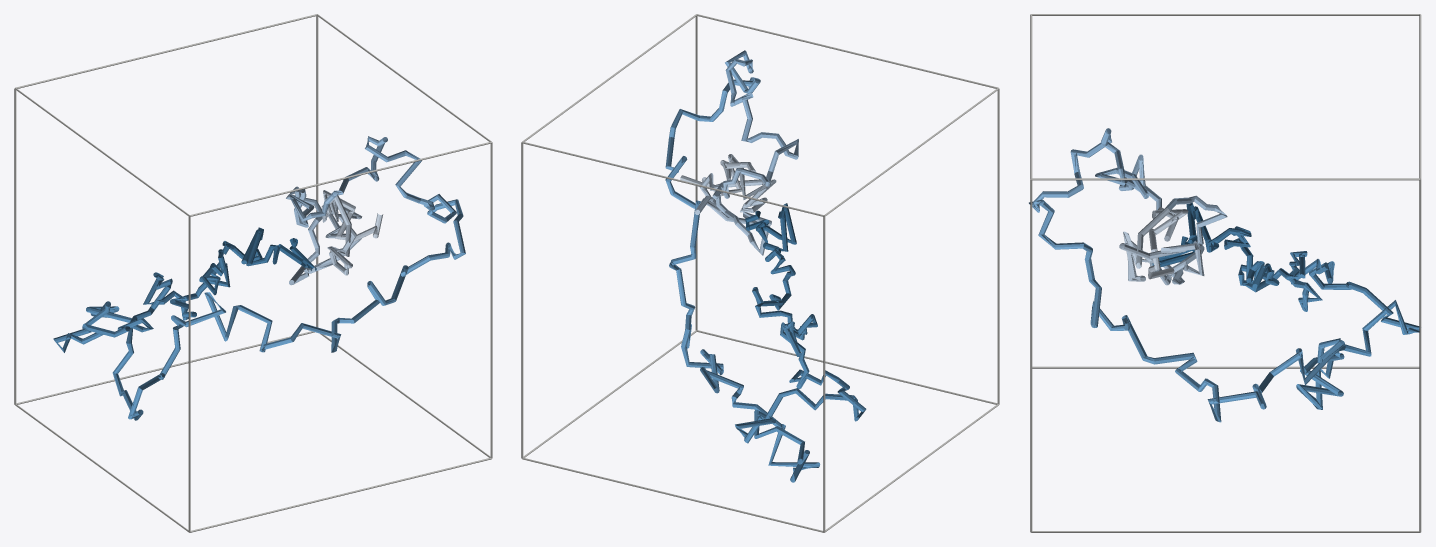
The picture shows the model from 3 angles, left to right: view 1: azimuth 30°, elevation 25°; view 2: azimuth 150°, elevation 25°; view 3: azimuth 270°, elevation 25°; orthographic projection. The views are drawn at different scales.
Visible parts, largest first — view 1: geometry_0, geometry_1; view 2: geometry_0, geometry_1; view 3: geometry_0, geometry_1.
Boxes of the visible parts, x1,y1,x2,y2 form: geometry_0: (53, 136, 465, 420); geometry_1: (14, 14, 492, 532); geometry_0: (665, 50, 866, 482); geometry_1: (521, 14, 999, 532); geometry_0: (1029, 128, 1419, 422); geometry_1: (1030, 14, 1421, 532).
Size of the model in its own units: 0.3041 by 0.3037 by 0.3031.
